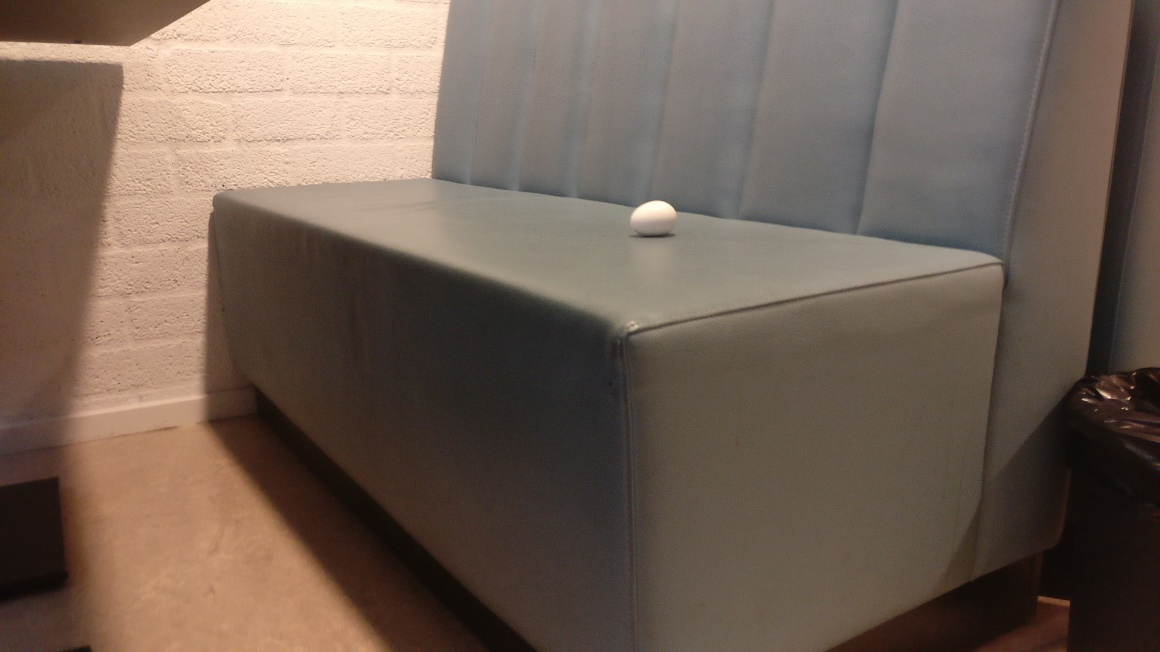egg: (629, 199, 677, 237)
